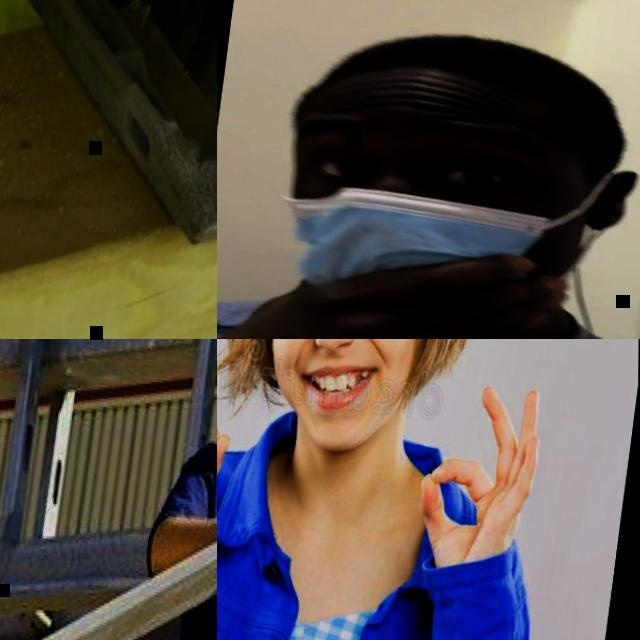Mask: (282, 177, 560, 316)
NO-Hardhat: (295, 13, 621, 158)
NO-Mask: (268, 344, 406, 457)
NO-Safety Vest: (217, 426, 481, 640)
Person: (217, 0, 640, 339), (217, 339, 629, 640), (121, 339, 217, 640)
